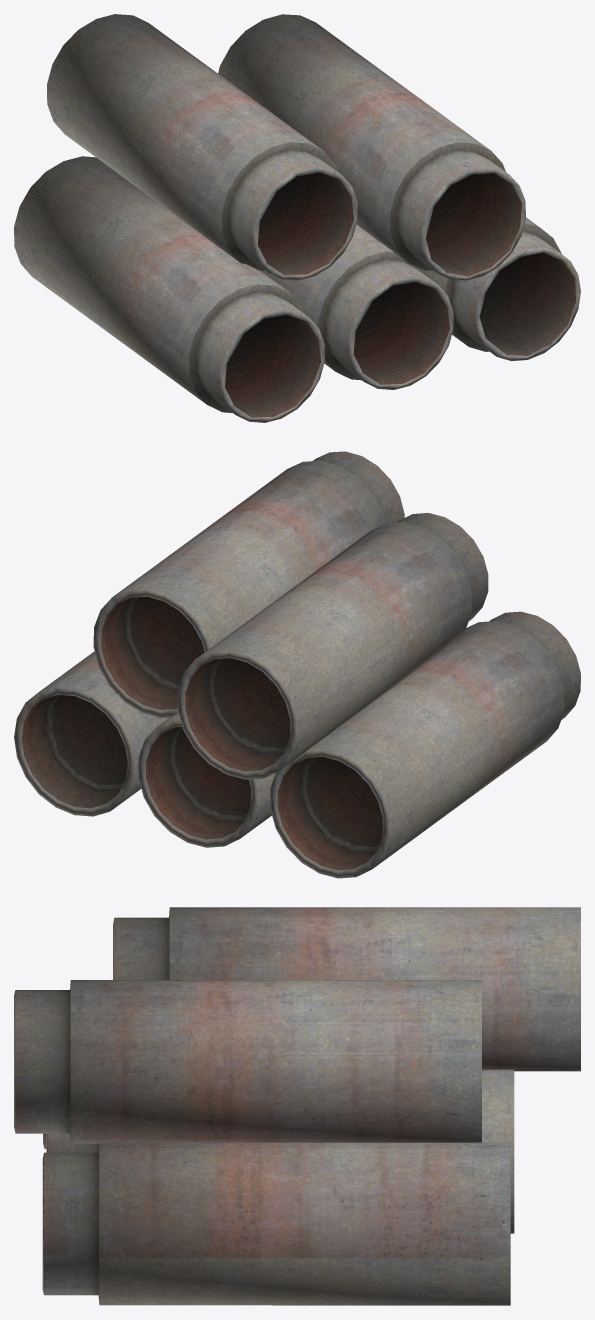
3 renders of one model, top to bottom at view 1: azimuth 30°, elevation 25°; view 2: azimuth 150°, elevation 25°; view 3: azimuth 270°, elevation 25°, orthographic. The views are drawn at different scales.
Visible parts, largest first — view 1: Construction.012, Construction.011, Construction.013, Construction.010, Construction.007; view 2: Construction.012, Construction.011, Construction.013, Construction.007, Construction.010; view 3: Construction.007, Construction.013, Construction.012, Construction.010.
Boxes of the visible parts, left/top/right/bottom form: Construction.012: left=47, top=14, right=357, bottom=280; Construction.011: left=14, top=156, right=324, bottom=422; Construction.013: left=218, top=14, right=525, bottom=280; Construction.010: left=260, top=225, right=453, bottom=389; Construction.007: left=429, top=217, right=580, bottom=361; Construction.012: left=177, top=513, right=488, bottom=779; Construction.011: left=270, top=611, right=580, bottom=878; Construction.013: left=93, top=451, right=404, bottom=718; Construction.007: left=14, top=651, right=168, bottom=816; Construction.010: left=138, top=713, right=275, bottom=847; Construction.007: left=42, top=1142, right=510, bottom=1305; Construction.013: left=14, top=980, right=481, bottom=1143; Construction.012: left=113, top=907, right=580, bottom=1071; Construction.010: left=46, top=1069, right=514, bottom=1233.
Bounding box in the file's own units: 6.32 × 3.72 × 7.02.
Materials: 1 (1 with a texture image).
